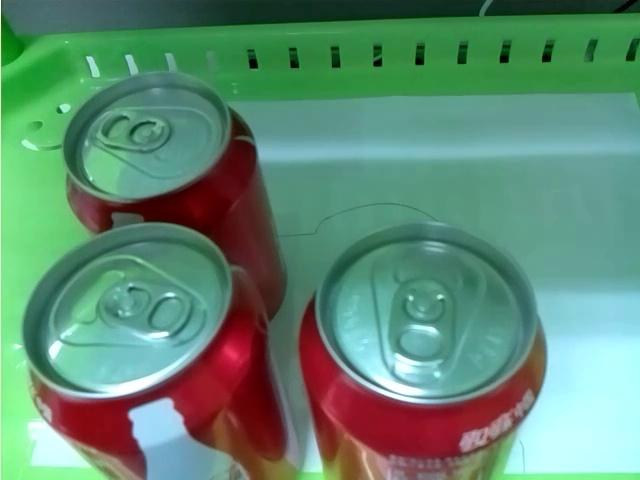cocacola: (19, 221, 301, 480), (293, 221, 550, 480), (69, 74, 289, 317)
